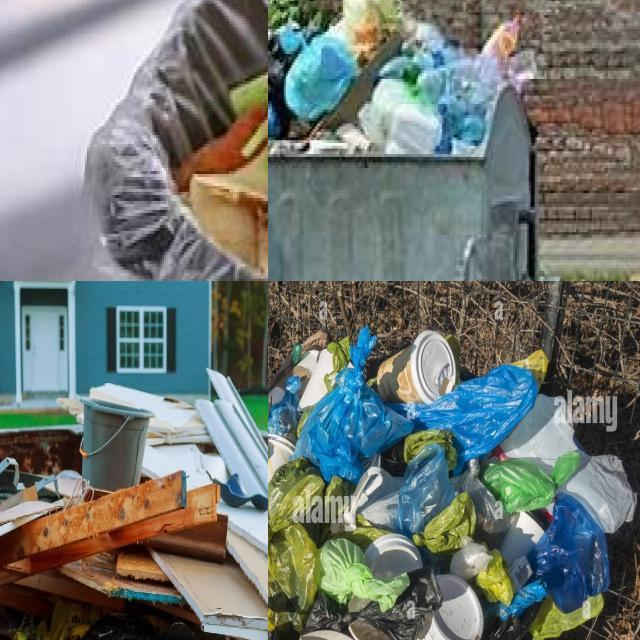Disposable: (378, 330, 459, 404), (416, 574, 483, 640), (364, 533, 422, 578), (501, 512, 544, 564), (268, 434, 294, 484)
Garbage: (268, 329, 634, 640), (0, 374, 268, 640), (268, 0, 535, 156)
Plastic: (14, 599, 98, 640)
Plastic_Bag: (293, 327, 538, 482), (268, 568, 443, 640), (528, 492, 609, 612), (397, 443, 476, 555), (268, 457, 324, 614), (318, 539, 409, 611), (284, 33, 357, 122), (560, 449, 637, 533), (480, 451, 581, 514), (501, 395, 580, 473), (268, 29, 284, 102)
Plastic_Container: (80, 397, 153, 491)
Plastic_bottle: (381, 23, 503, 153)
